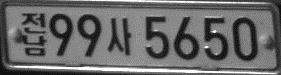0: (231, 16, 257, 60)
5: (203, 17, 229, 60), (144, 15, 169, 58)
6: (173, 16, 199, 60)
9: (49, 12, 73, 56), (77, 13, 101, 56)
사: (106, 17, 132, 55)
전남_V: (22, 12, 46, 55)
